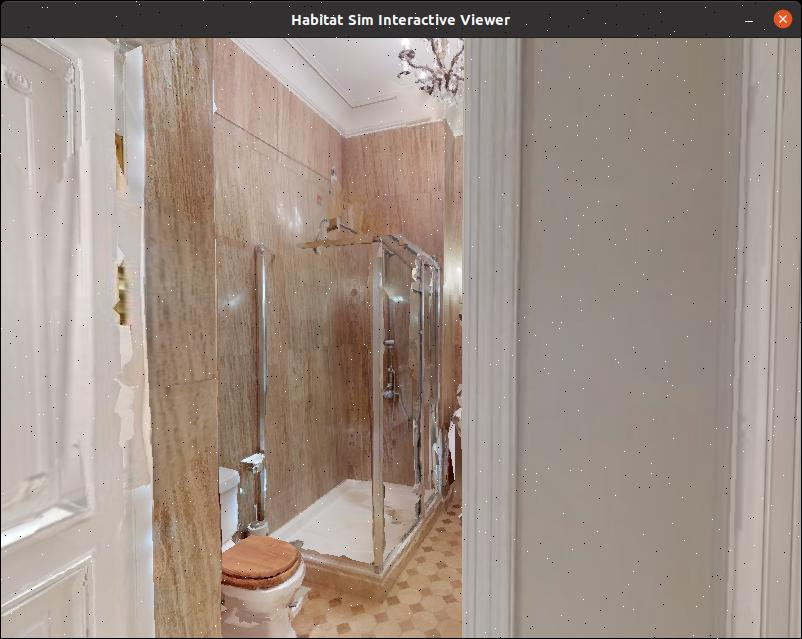door-frame: (90, 33, 539, 639)
shower: (254, 217, 457, 613)
toilet: (201, 439, 339, 639)
